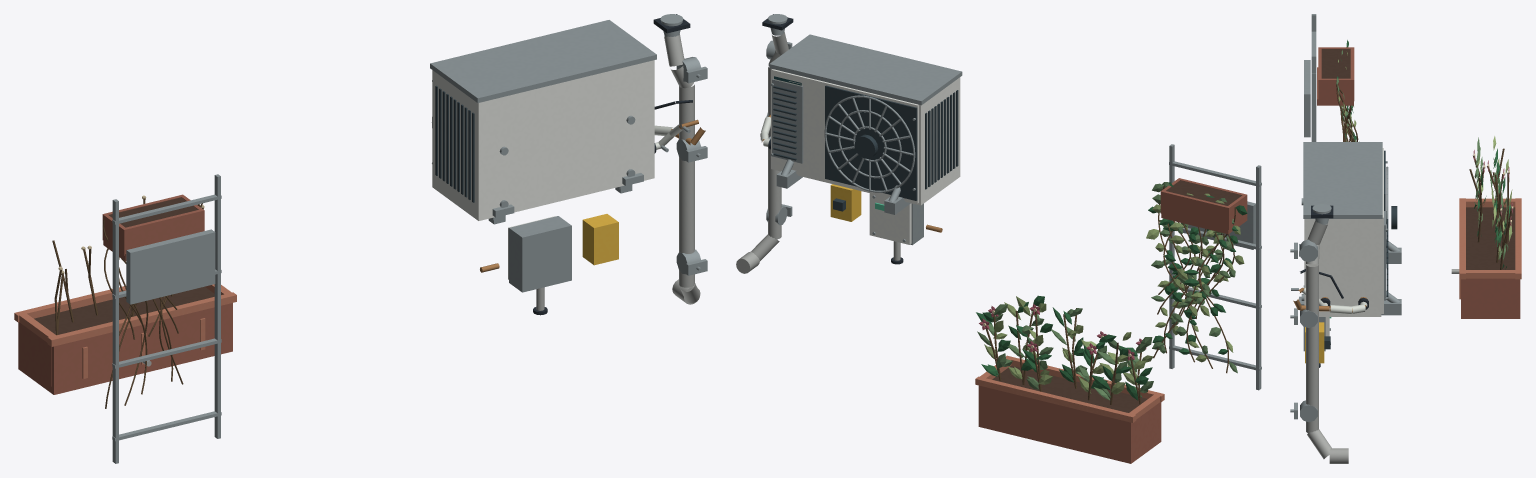
The picture shows the model from 3 angles, left to right: view 1: azimuth 30°, elevation 25°; view 2: azimuth 150°, elevation 25°; view 3: azimuth 270°, elevation 25°; orthographic projection. The views are drawn at different scales.
Parts seen in each view (by area): view 1: AC__VIS_CABINET_MAIN, AC__VIS_CABINET_TOP_CAP, PLAN__VIS_POT_LONG_SHELL_+0.188, IVY__VIS_IVY_WALL_BACKPLATE, UTILITY__VIS_WEATHERPROOF_JUNCTION_BOX, DRAIN__VIS_DOWNPIPE_BENT_TUBE, PLAN__VIS_PLANTING_SOIL, IVY__VIS_IVY_TRAY_SIDE_-0.005, PLAN__VIS_WATERTIGHT_TROUGH_FLOOR, PLAN__VIS_POT_ROLLED_RIM_+0.188, IVY__VIS_TRELLIS_STILE_-0.33, IVY__VIS_TRELLIS_STILE_0.33 (+6 smaller); view 2: AC__VIS_CABINET_TOP_CAP, AC__VIS_FRONT_FAN_RECESS, PLAN__VIS_POT_LONG_SHELL_-0.188, AC__VIS_CABINET_FRONT_SKIN, AC__VIS_CABINET_MAIN, AC__VIS_FAN_SAFETY_GRILLE, PLAN__VIS_LEAF_CLUSTER_leaf_forest, PLAN__VIS_LEAF_CLUSTER_leaf_sage, PLAN__VIS_LEAF_CLUSTER_leaf_variegated, IVY__VIS_IVY_FOLIAGE_leaf_forest, IVY__VIS_IVY_FOLIAGE_leaf_variegated, PLAN__VIS_WATERTIGHT_TROUGH_FLOOR (+16 smaller); view 3: AC__VIS_CABINET_TOP_CAP, AC__VIS_CABINET_MAIN, DRAIN__VIS_DOWNPIPE_BENT_TUBE, PLAN__VIS_PLANTING_SOIL, PLAN__VIS_POT_END_SHELL_+0.568, PLAN__VIS_INDIVIDUAL_BRANCH_STEMS, IVY__VIS_IVY_SOIL, IVY__VIS_IVY_TRAY_END_0.249, PLAN__VIS_POT_ROLLED_RIM_-0.188, PLAN__VIS_POT_ROLLED_RIM_+0.188, PLAN__VIS_LEAF_CLUSTER_leaf_sage, IVY__VIS_IVY_WALL_BACKPLATE (+16 smaller).
Boxes of the visible parts, x1=… form: AC__VIS_CABINET_MAIN: x1=432, y1=60, x2=654, y2=220; AC__VIS_CABINET_TOP_CAP: x1=430, y1=20, x2=656, y2=102; PLAN__VIS_POT_LONG_SHELL_+0.188: x1=52, y1=303, x2=232, y2=387; IVY__VIS_IVY_WALL_BACKPLATE: x1=126, y1=229, x2=215, y2=304; UTILITY__VIS_WEATHERPROOF_JUNCTION_BOX: x1=509, y1=216, x2=571, y2=292; DRAIN__VIS_DOWNPIPE_BENT_TUBE: x1=664, y1=34, x2=699, y2=303; PLAN__VIS_PLANTING_SOIL: x1=34, y1=286, x2=214, y2=334; IVY__VIS_IVY_TRAY_SIDE_-0.005: x1=122, y1=209, x2=204, y2=255; PLAN__VIS_WATERTIGHT_TROUGH_FLOOR: x1=18, y1=338, x2=232, y2=394; PLAN__VIS_POT_ROLLED_RIM_+0.188: x1=47, y1=292, x2=236, y2=346; IVY__VIS_TRELLIS_STILE_-0.33: x1=112, y1=199, x2=118, y2=463; IVY__VIS_TRELLIS_STILE_0.33: x1=214, y1=174, x2=220, y2=438; AC__VIS_CABINET_TOP_CAP: x1=769, y1=34, x2=962, y2=105; AC__VIS_FRONT_FAN_RECESS: x1=825, y1=85, x2=917, y2=200; PLAN__VIS_POT_LONG_SHELL_-0.188: x1=978, y1=385, x2=1132, y2=457; AC__VIS_CABINET_FRONT_SKIN: x1=771, y1=69, x2=918, y2=203; AC__VIS_CABINET_MAIN: x1=771, y1=68, x2=960, y2=205; AC__VIS_FAN_SAFETY_GRILLE: x1=824, y1=95, x2=915, y2=192; PLAN__VIS_LEAF_CLUSTER_leaf_forest: x1=976, y1=295, x2=1152, y2=400; PLAN__VIS_LEAF_CLUSTER_leaf_sage: x1=977, y1=304, x2=1153, y2=400; PLAN__VIS_LEAF_CLUSTER_leaf_variegated: x1=984, y1=296, x2=1153, y2=394; IVY__VIS_IVY_FOLIAGE_leaf_forest: x1=1148, y1=182, x2=1247, y2=354; IVY__VIS_IVY_FOLIAGE_leaf_variegated: x1=1146, y1=193, x2=1244, y2=362; PLAN__VIS_WATERTIGHT_TROUGH_FLOOR: x1=978, y1=415, x2=1161, y2=463; AC__VIS_CABINET_TOP_CAP: x1=1303, y1=142, x2=1382, y2=218; AC__VIS_CABINET_MAIN: x1=1304, y1=219, x2=1381, y2=316; DRAIN__VIS_DOWNPIPE_BENT_TUBE: x1=1306, y1=220, x2=1331, y2=459; PLAN__VIS_PLANTING_SOIL: x1=1466, y1=207, x2=1515, y2=269; PLAN__VIS_POT_END_SHELL_+0.568: x1=1464, y1=278, x2=1516, y2=313; PLAN__VIS_INDIVIDUAL_BRANCH_STEMS: x1=1469, y1=148, x2=1511, y2=269; IVY__VIS_IVY_SOIL: x1=1321, y1=49, x2=1350, y2=78; IVY__VIS_IVY_TRAY_END_0.249: x1=1319, y1=78, x2=1352, y2=101; PLAN__VIS_POT_ROLLED_RIM_-0.188: x1=1515, y1=198, x2=1521, y2=279; PLAN__VIS_POT_ROLLED_RIM_+0.188: x1=1459, y1=198, x2=1465, y2=279; PLAN__VIS_LEAF_CLUSTER_leaf_sage: x1=1474, y1=137, x2=1508, y2=260; IVY__VIS_IVY_WALL_BACKPLATE: x1=1304, y1=60, x2=1310, y2=137.
Size of the model in its own units: 3.9 by 1.9 by 1.56.
21 materials, 21 textured.
